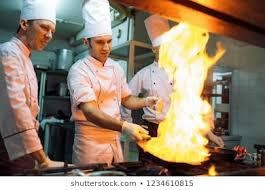fire: (148, 12, 227, 163)
